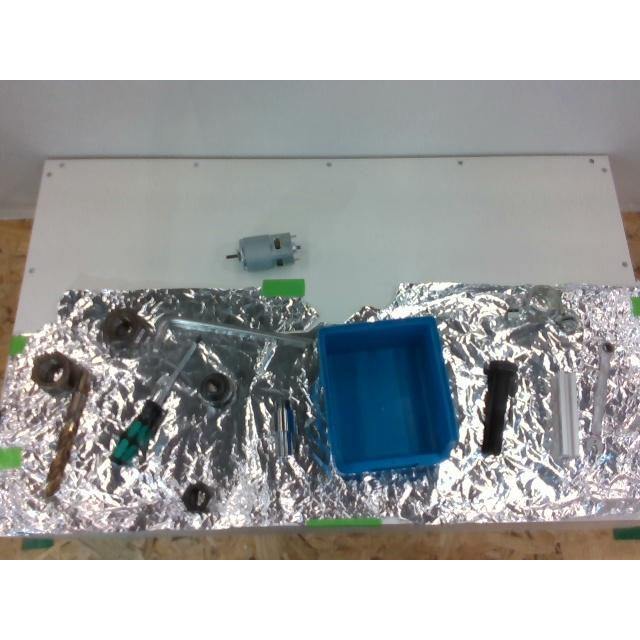AllenKey: (154, 316, 318, 348)
Axis2: (274, 398, 298, 458)
Bearing2: (197, 372, 235, 408)
Drill: (43, 368, 89, 497)
F20_20_G: (552, 370, 578, 458)
Housing: (505, 286, 581, 346)
M20: (182, 482, 214, 514)
M20_100: (481, 360, 517, 456)
M30: (98, 307, 150, 357), (31, 352, 83, 392)
Motor2: (226, 233, 300, 270)
Screwdriver: (110, 342, 198, 466)
Wrench: (589, 342, 613, 458)
container_box_blue: (318, 318, 458, 474)
